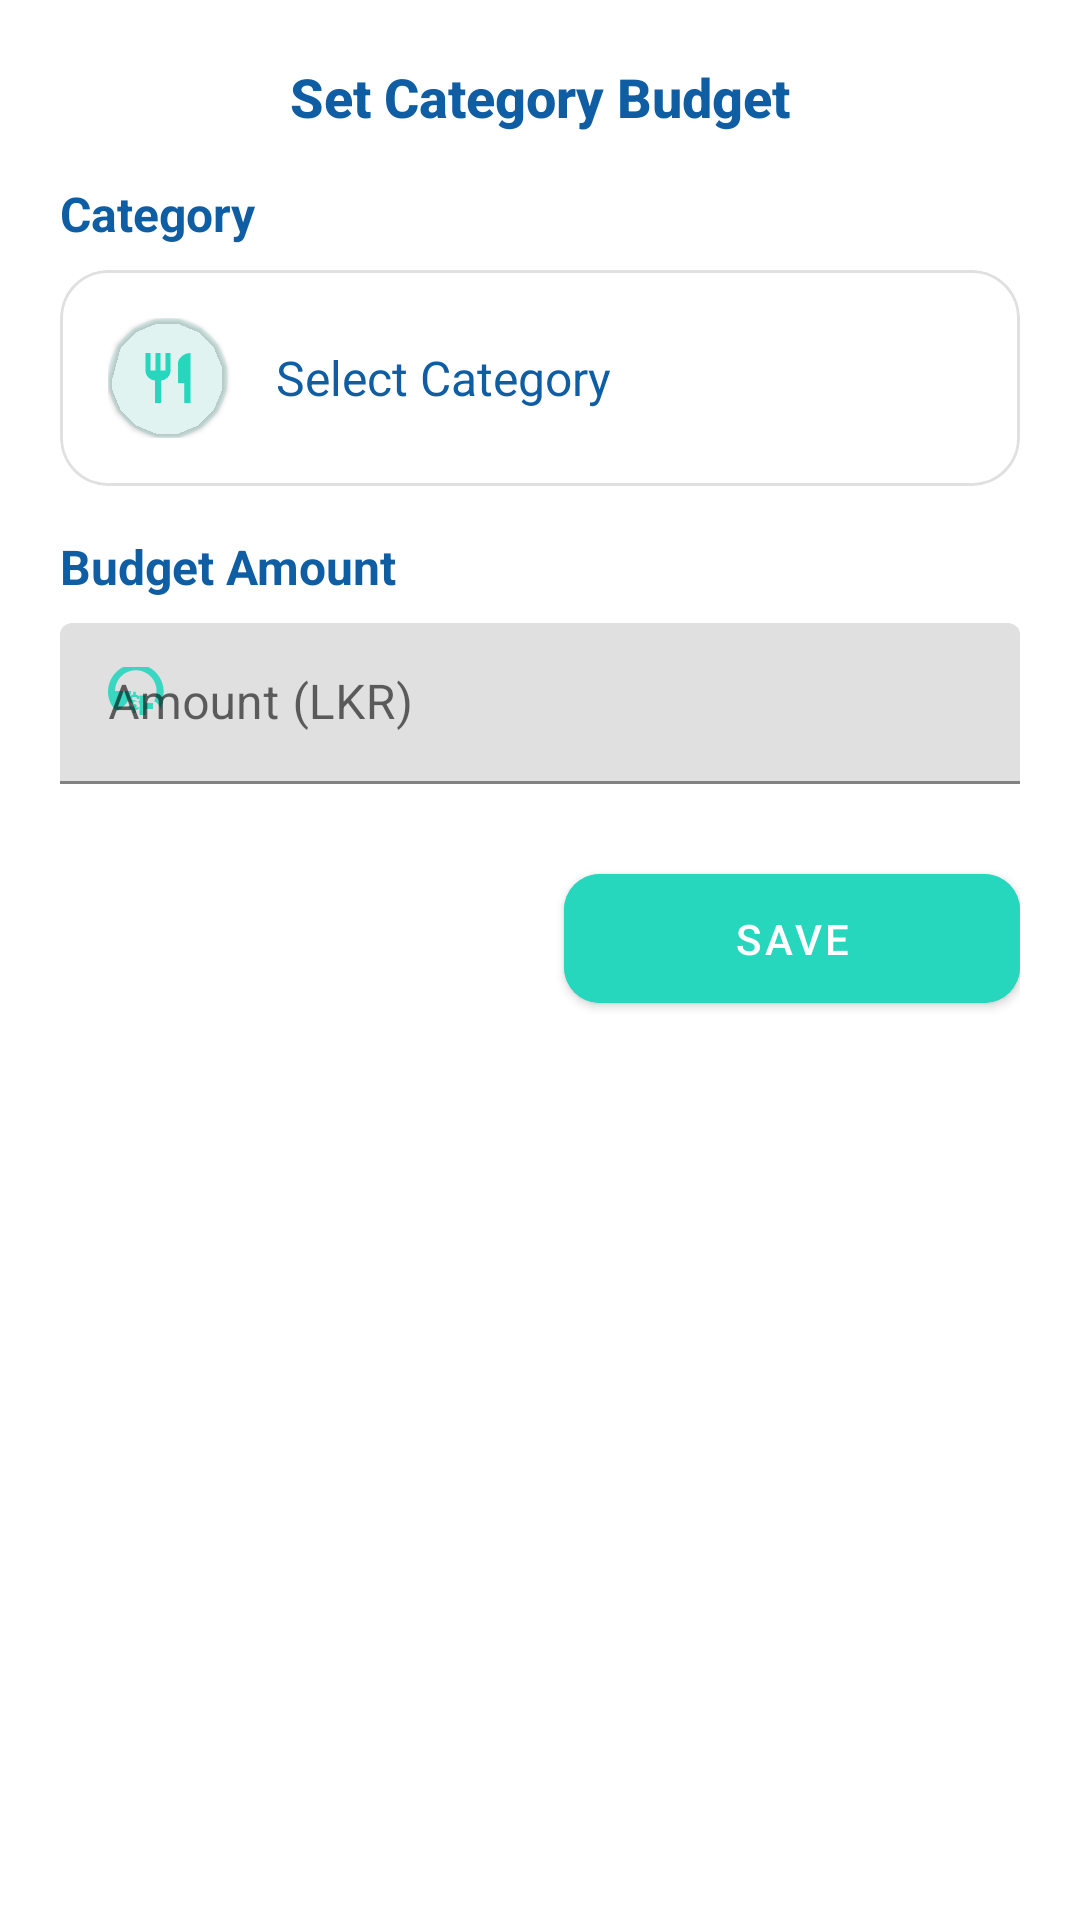

Locate icon controls on the screen. Image size 1080*1920, boxes as (x1, y1, x2, y2).
food: (145, 353, 191, 403)
